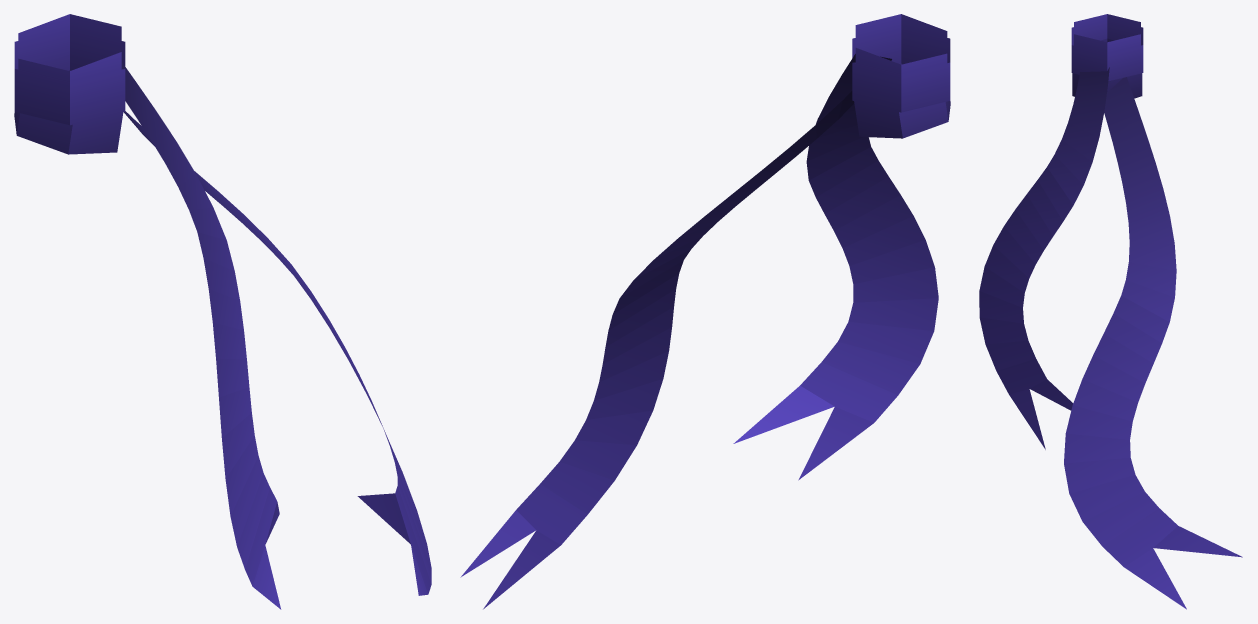
The model's file is ribon_001.fbx.
3 renders of one model, left to right at view 1: azimuth 30°, elevation 25°; view 2: azimuth 150°, elevation 25°; view 3: azimuth 270°, elevation 25°, orthographic. The views are drawn at different scales.
Visible parts, largest first — view 1: ribon.001; view 2: ribon.001; view 3: ribon.001.
Part boxes in pixels (bbox=[...]): ribon.001: bbox=[14, 14, 431, 609]; ribon.001: bbox=[460, 14, 950, 609]; ribon.001: bbox=[979, 14, 1242, 609].
Size of the model in its own units: 33.5 by 48.24 by 25.42.
